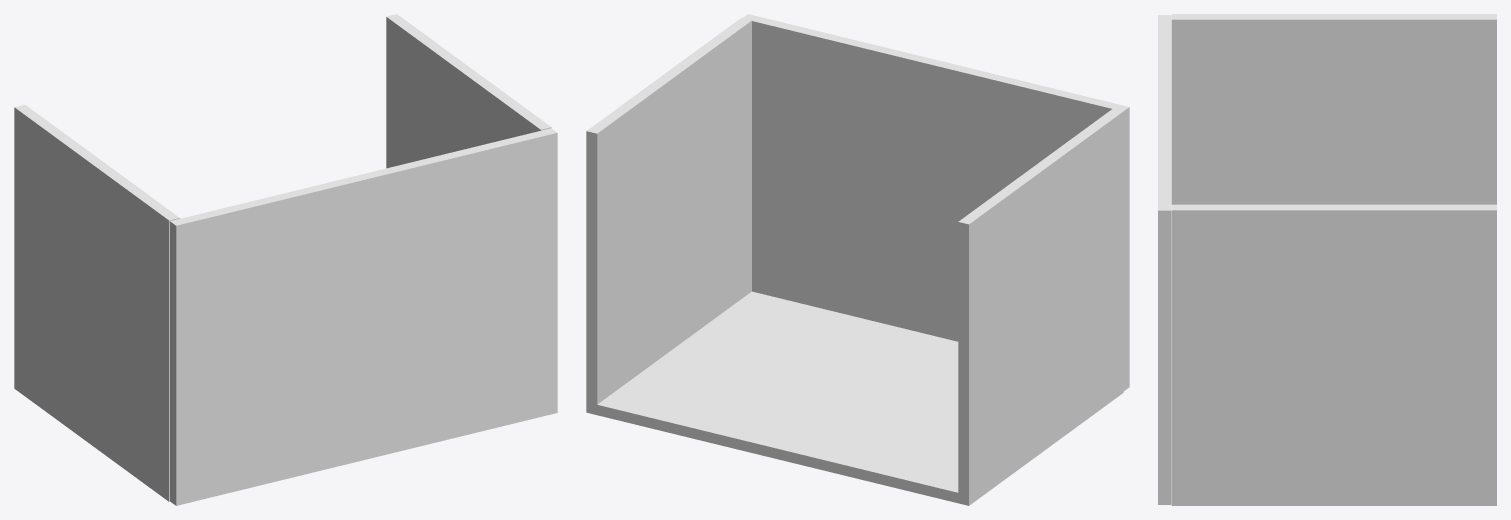
Rendered from AEC_48032.glb.
3 views of the same model, side by side, from view 1: azimuth 30°, elevation 25°; view 2: azimuth 150°, elevation 25°; view 3: azimuth 270°, elevation 25° (orthographic). The views are drawn at different scales.
Visible parts, largest first — view 1: 0; view 2: 0; view 3: 0.
Boxes of the visible parts, x1,y1,x2,y2 form: 0: (14, 14, 557, 505); 0: (586, 14, 1129, 505); 0: (1158, 14, 1496, 505).
Size of the model in its own units: 0.64 by 0.45 by 0.467.
1 material, 1 textured.
